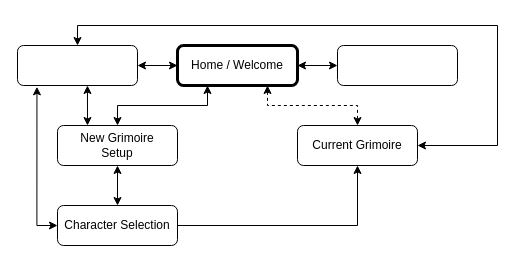
The diagram is 524 pixels wide and 263 high, and some of its shapes have lost their labels. The box of each missing label's shape, as (x1, y1, x2, y2) in pixels:
Credit: (336, 44, 458, 86)
Settings: (16, 44, 138, 86)
